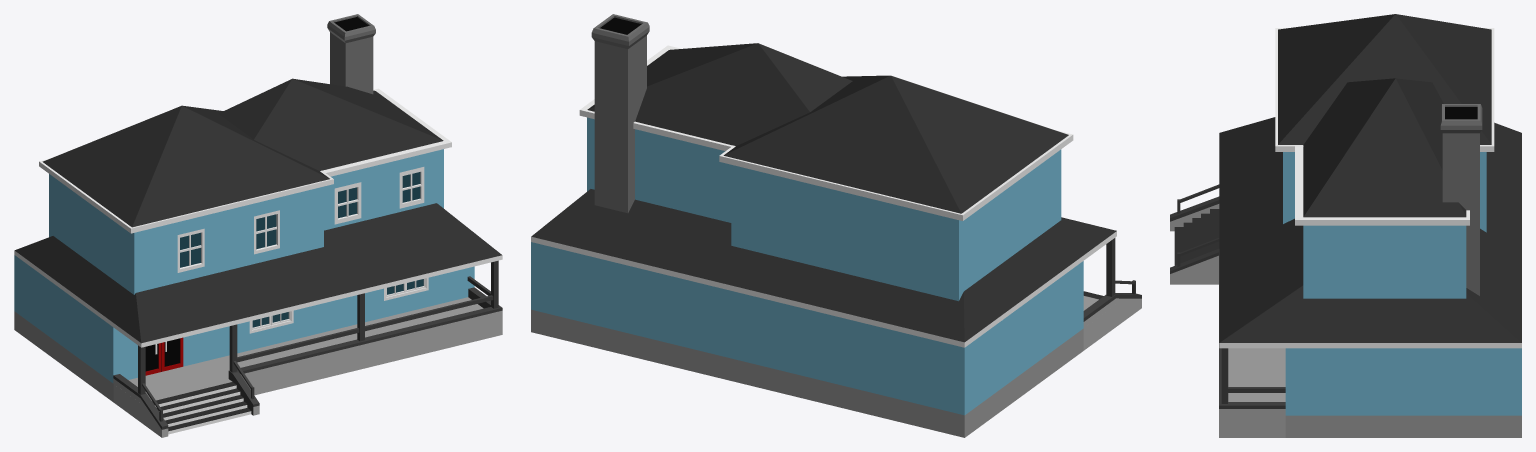
The model's file is House-05.fbx.
3 renders of one model, left to right at view 1: azimuth 30°, elevation 25°; view 2: azimuth 150°, elevation 25°; view 3: azimuth 270°, elevation 25°, orthographic. The views are drawn at different scales.
Parts seen in each view (by area): view 1: Cube; view 2: Cube; view 3: Cube.
Part boxes in pixels (bbox=[...]): Cube: bbox=[14, 14, 502, 437]; Cube: bbox=[531, 14, 1141, 437]; Cube: bbox=[1170, 14, 1521, 437].
Size of what is drawn, in the model's own units: 20.13 by 13.26 by 14.24.
